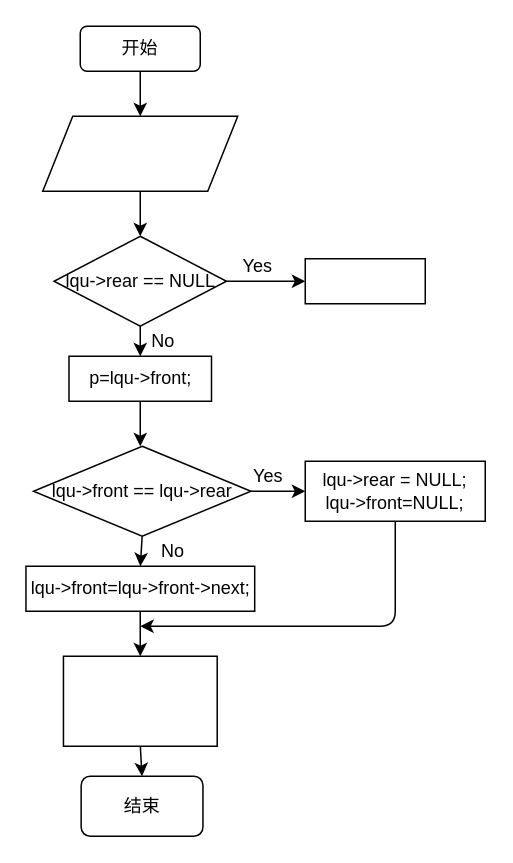
Image size: 513x863. Some labels were removed from this diagram. Each missing label, with the box of its shape:
return 0;: (304, 257, 425, 304)
x=p->data; free(p); p = NULL; return x;: (62, 655, 217, 746)
输入LiQueue *lqu, int x: (41, 115, 238, 191)
